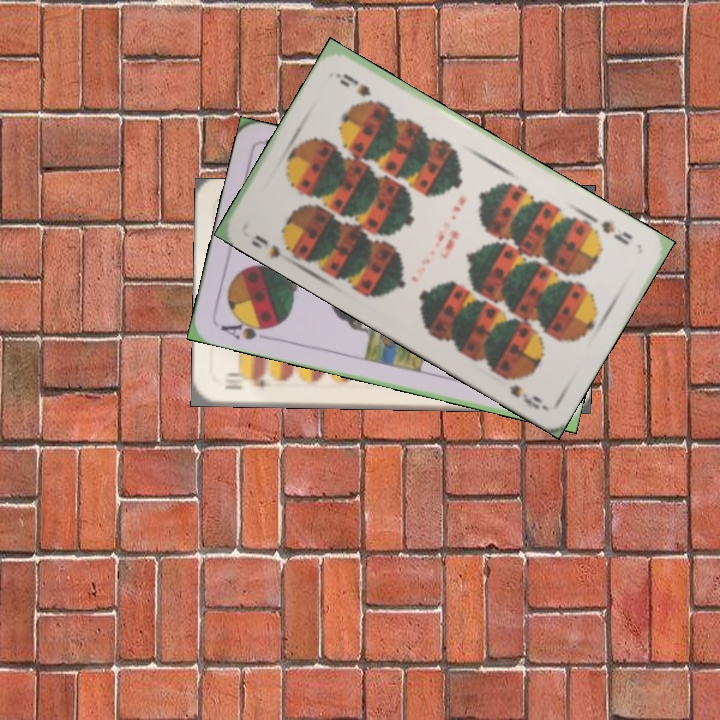E10: (221, 371, 268, 393)
S9: (247, 230, 298, 261), (596, 216, 636, 248)
SA: (216, 314, 276, 343)
